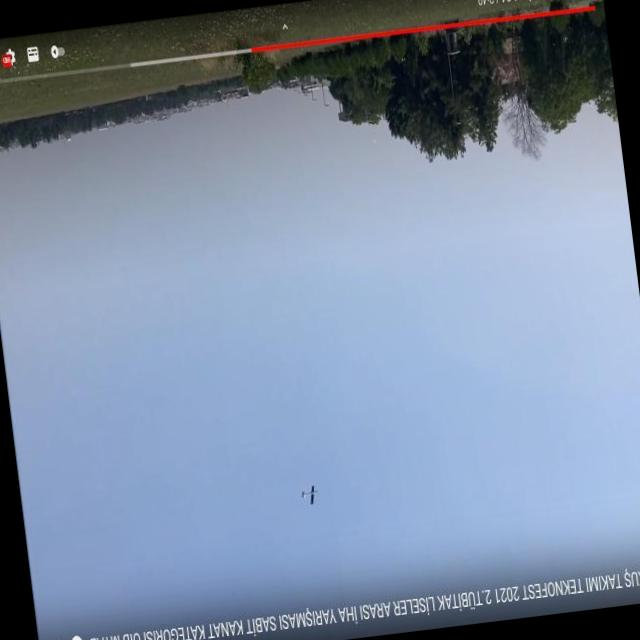UAV: (275, 458, 320, 522)
